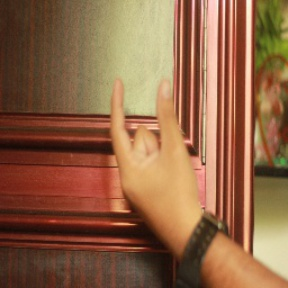U: (103, 72, 197, 217)
